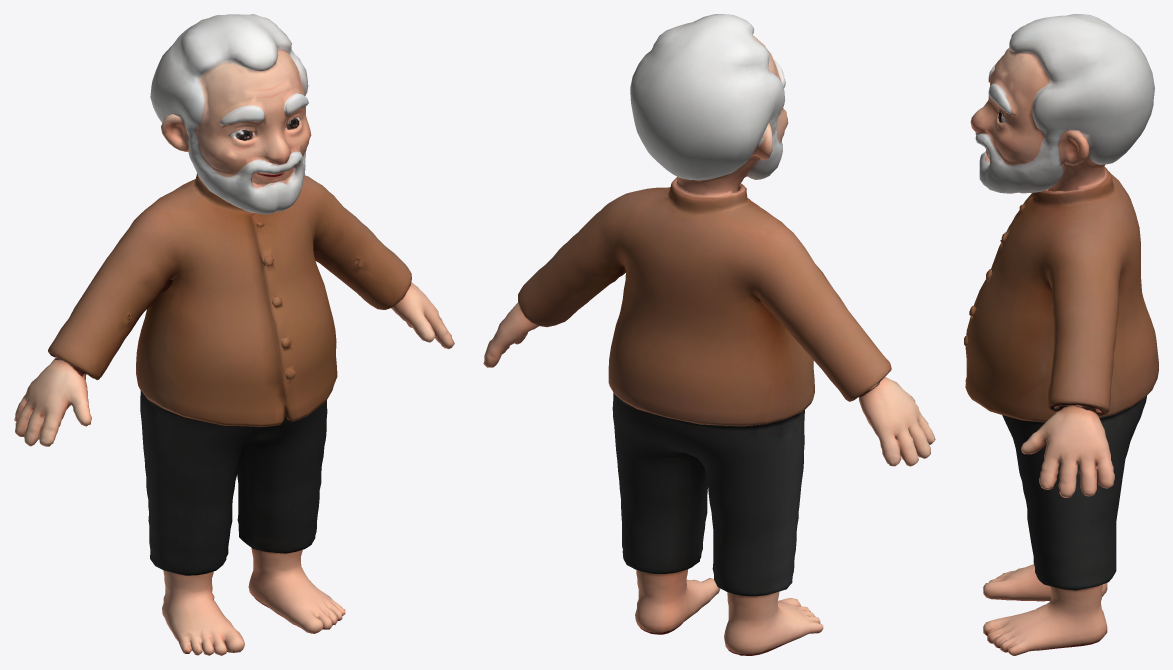
Rendered from cu-binh.ebe07107.glb.
3 renders of one model, left to right at view 1: azimuth 30°, elevation 25°; view 2: azimuth 150°, elevation 25°; view 3: azimuth 270°, elevation 25°, orthographic. The views are drawn at different scales.
Visible parts, largest first — view 1: tripo_node_1ae3f9b2-3e5d-4559-9c00-db307d52de95; view 2: tripo_node_1ae3f9b2-3e5d-4559-9c00-db307d52de95; view 3: tripo_node_1ae3f9b2-3e5d-4559-9c00-db307d52de95.
Part boxes in pixels (<box>): tripo_node_1ae3f9b2-3e5d-4559-9c00-db307d52de95: <box>14,14,454,655</box>; tripo_node_1ae3f9b2-3e5d-4559-9c00-db307d52de95: <box>483,14,935,655</box>; tripo_node_1ae3f9b2-3e5d-4559-9c00-db307d52de95: <box>964,14,1158,655</box>.
Size of the model in its own units: 0.729 by 0.9778 by 0.2889.
1 material, 1 textured.
